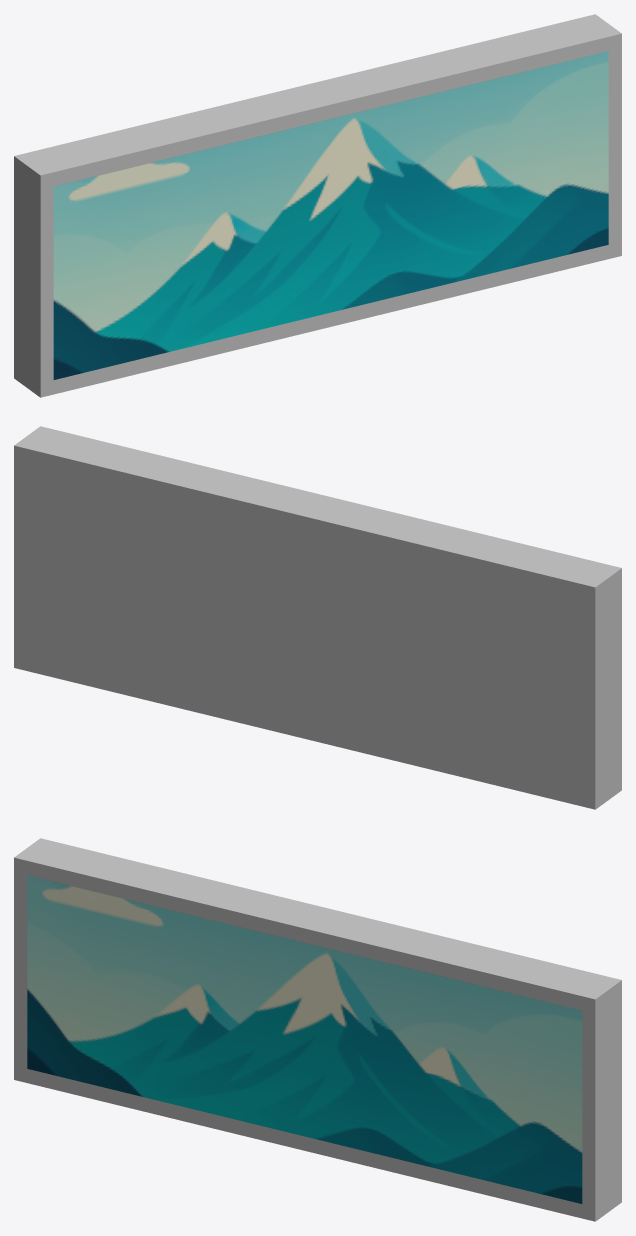
The model's file is Billboard_3x1_01.fbx.
3 renders of one model, top to bottom at view 1: azimuth 30°, elevation 25°; view 2: azimuth 150°, elevation 25°; view 3: azimuth 330°, elevation 25°, orthographic.
Parts seen in each view (by area): view 1: Billboard_3x1_01; view 2: Billboard_3x1_01; view 3: Billboard_3x1_01.
Boxes of the visible parts, x1,y1,x2,y2 form: Billboard_3x1_01: (14, 14, 621, 397); Billboard_3x1_01: (14, 426, 621, 809); Billboard_3x1_01: (14, 838, 621, 1221).
Bounding box in the file's own units: 962 × 75.97 × 351.
